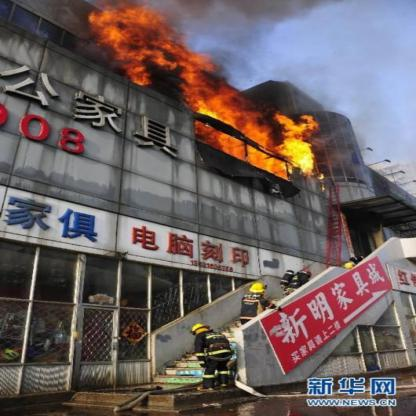fire: (92, 4, 319, 184)
